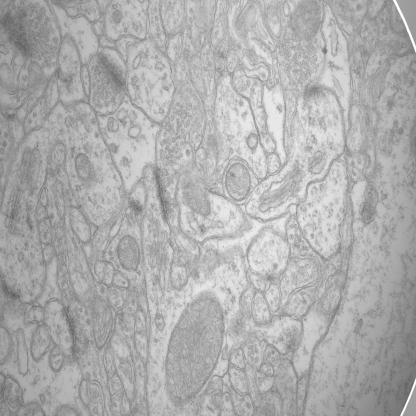mitochondria: (162, 290, 226, 406), (116, 233, 142, 273)
